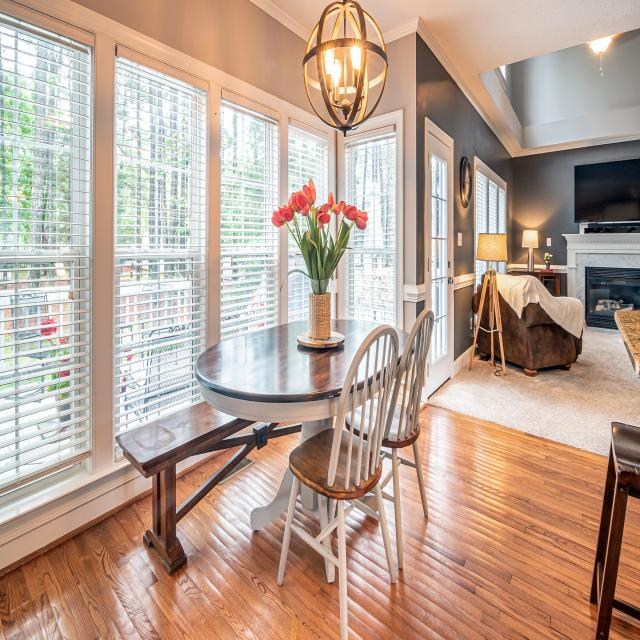floor: (0, 432, 341, 640), (347, 404, 610, 640), (177, 444, 247, 510), (615, 495, 640, 607), (608, 607, 640, 640), (380, 457, 393, 484), (397, 444, 415, 463), (381, 446, 392, 453)
wall: (69, 0, 318, 118), (416, 31, 513, 286), (512, 139, 640, 266), (511, 28, 640, 127), (369, 31, 416, 286), (522, 105, 640, 149), (576, 253, 640, 320), (477, 69, 522, 149), (307, 82, 333, 125), (363, 79, 384, 119), (459, 156, 472, 208), (366, 49, 385, 81), (335, 48, 345, 87), (307, 55, 320, 83), (333, 107, 350, 125), (506, 64, 512, 107), (346, 58, 353, 86), (352, 109, 361, 123), (337, 94, 345, 105), (346, 93, 355, 102), (309, 45, 315, 51), (379, 46, 383, 50)
